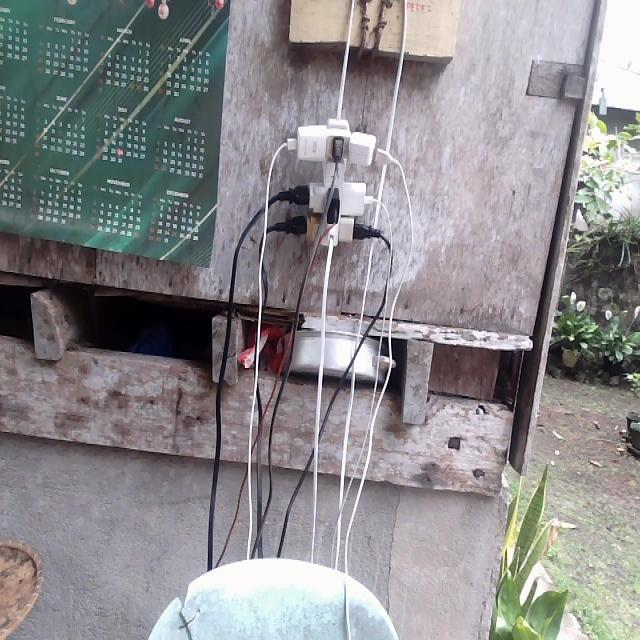-: (268, 116, 395, 248)
